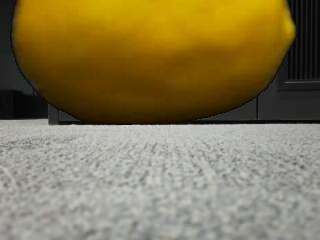lemon: (11, 0, 295, 125)
